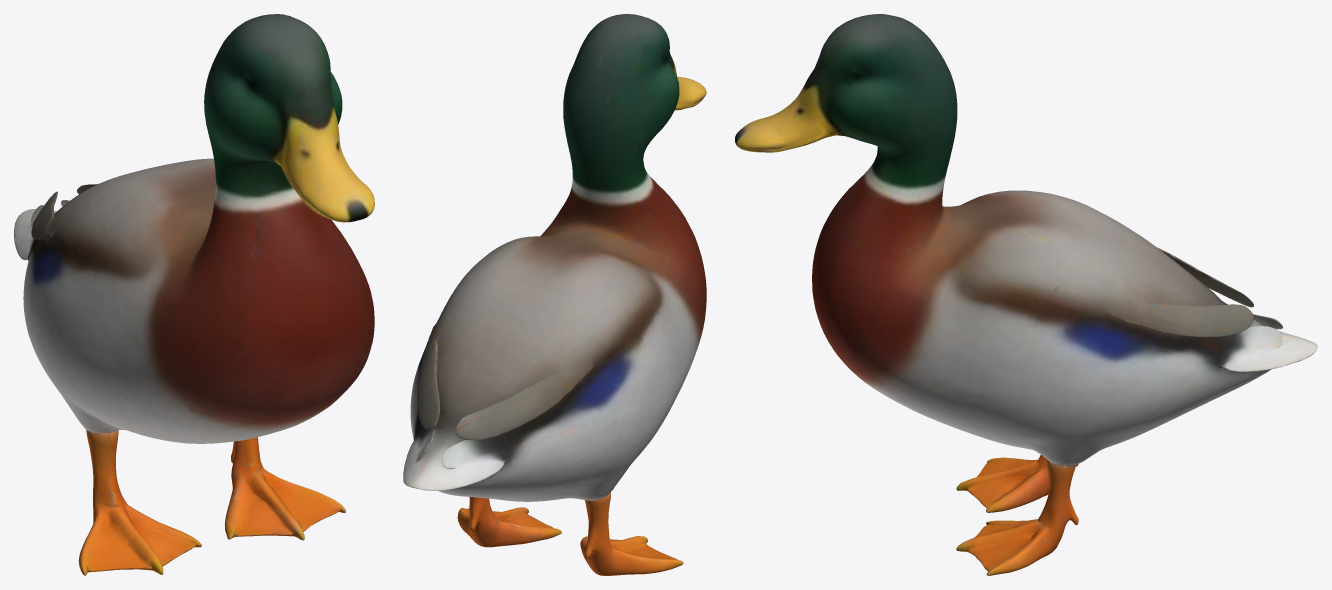
File: mallard-duck.glb
The picture shows the model from 3 angles, left to right: view 1: azimuth 30°, elevation 25°; view 2: azimuth 150°, elevation 25°; view 3: azimuth 270°, elevation 25°; orthographic projection. The views are drawn at different scales.
Parts seen in each view (by area): view 1: Mesh; view 2: Mesh; view 3: Mesh.
Part boxes in pixels (bbox=[...]): Mesh: bbox=[14, 14, 374, 575]; Mesh: bbox=[403, 14, 706, 575]; Mesh: bbox=[735, 14, 1317, 575].
Bounding box in the file's own units: 0.866 × 1.8 × 1.89.
Materials: 1 (1 with a texture image).
